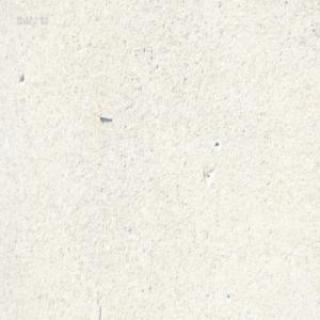Nailtrack_idkeyframe: (97, 110, 111, 120)
